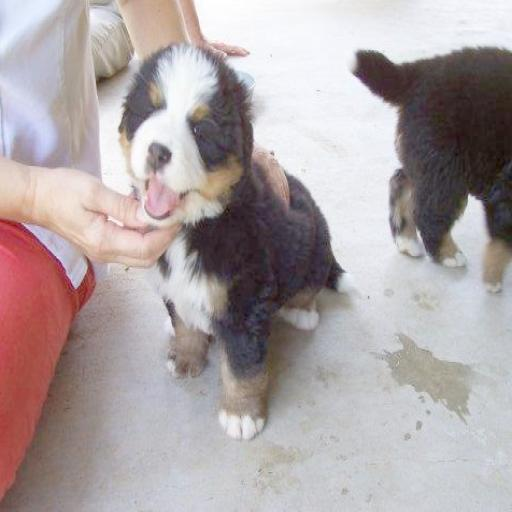dog_face: (121, 49, 252, 218)
